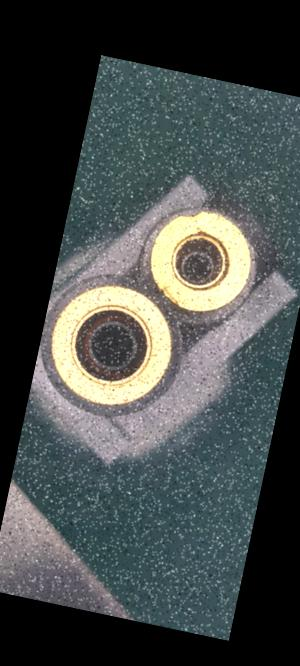bump: (154, 281, 187, 309), (179, 207, 204, 223)
